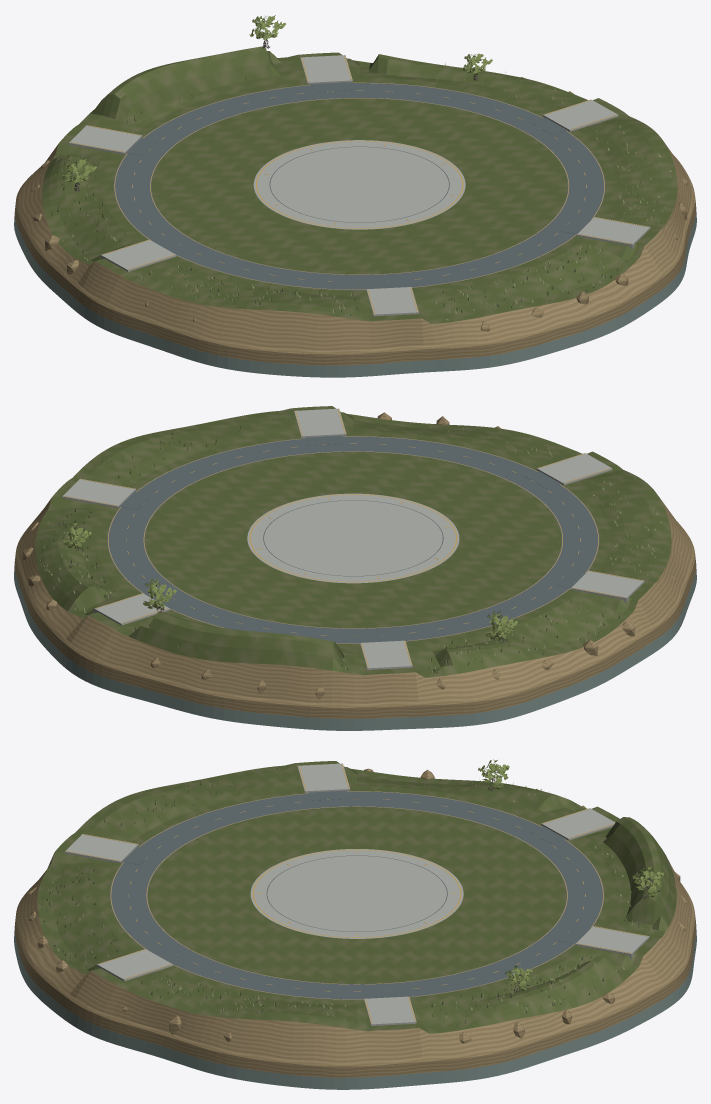
Rendered from parcel-hub.glb.
3 renders of one model, top to bottom at view 1: azimuth 30°, elevation 25°; view 2: azimuth 150°, elevation 25°; view 3: azimuth 270°, elevation 25°, orthographic.
Parts seen in each view (by area): view 1: parcel_closed_manifold_core, ring_road_surface, spaceport_empty_landing_pad, retained_palette_coastal_salt_grass, pad_closed_abutment_E150, pad_closed_abutment_E330, pad_closed_abutment_E270, pad_closed_abutment_E90, pad_closed_abutment_E210, pad_closed_abutment_E30, ring_road_ochre_edge_32.36, ring_road_ochre_edge_27.64 (+1 smaller); view 2: parcel_closed_manifold_core, ring_road_surface, spaceport_empty_landing_pad, retained_palette_coastal_salt_grass, pad_closed_abutment_E150, pad_closed_abutment_E210, pad_closed_abutment_E330, pad_closed_abutment_E90, pad_closed_abutment_E270, pad_closed_abutment_E30, ring_road_ochre_edge_27.64, ring_road_ochre_edge_32.36 (+3 smaller); view 3: parcel_closed_manifold_core, ring_road_surface, spaceport_empty_landing_pad, retained_palette_coastal_salt_grass, pad_closed_abutment_E270, pad_closed_abutment_E30, pad_closed_abutment_E90, pad_closed_abutment_E210, pad_closed_abutment_E330, pad_closed_abutment_E150, ring_road_ochre_edge_27.64, ring_road_ochre_edge_32.36 (+2 smaller).
Boxes of the visible parts, x1,y1,x2,y2 form: parcel_closed_manifold_core: (14,46,696,377); ring_road_surface: (113,82,605,290); spaceport_empty_landing_pad: (253,140,465,229); retained_palette_coastal_salt_grass: (51,62,671,320); pad_closed_abutment_E150: (101,239,176,271); pad_closed_abutment_E330: (543,99,618,131); pad_closed_abutment_E270: (577,217,650,249); pad_closed_abutment_E90: (69,125,142,154); pad_closed_abutment_E210: (366,287,418,316); pad_closed_abutment_E30: (300,55,352,84); ring_road_ochre_edge_32.36: (114,82,604,289); ring_road_ochre_edge_27.64: (150,98,569,274); parcel_closed_manifold_core: (14,406,696,730); ring_road_surface: (107,436,599,643); spaceport_empty_landing_pad: (247,493,459,583); retained_palette_coastal_salt_grass: (39,420,662,673); pad_closed_abutment_E150: (571,570,644,603); pad_closed_abutment_E210: (536,453,612,485); pad_closed_abutment_E330: (62,478,135,507); pad_closed_abutment_E90: (360,640,412,669); pad_closed_abutment_E270: (294,408,346,437); pad_closed_abutment_E30: (94,593,169,625); ring_road_ochre_edge_27.64: (143,451,562,628); ring_road_ochre_edge_32.36: (108,436,598,643); parcel_closed_manifold_core: (14,761,696,1089); ring_road_surface: (110,791,604,999); spaceport_empty_landing_pad: (250,849,463,938); retained_palette_coastal_salt_grass: (40,767,652,1026); pad_closed_abutment_E270: (97,949,172,981); pad_closed_abutment_E30: (575,926,649,959); pad_closed_abutment_E90: (541,808,615,840); pad_closed_abutment_E210: (64,834,138,863); pad_closed_abutment_E330: (364,996,416,1025); pad_closed_abutment_E150: (297,763,350,792); ring_road_ochre_edge_27.64: (146,806,567,984); ring_road_ochre_edge_32.36: (110,791,603,999).
Bounding box in the file's own units: 89.96 × 14.73 × 89.76.
11 materials, 4 textured.
